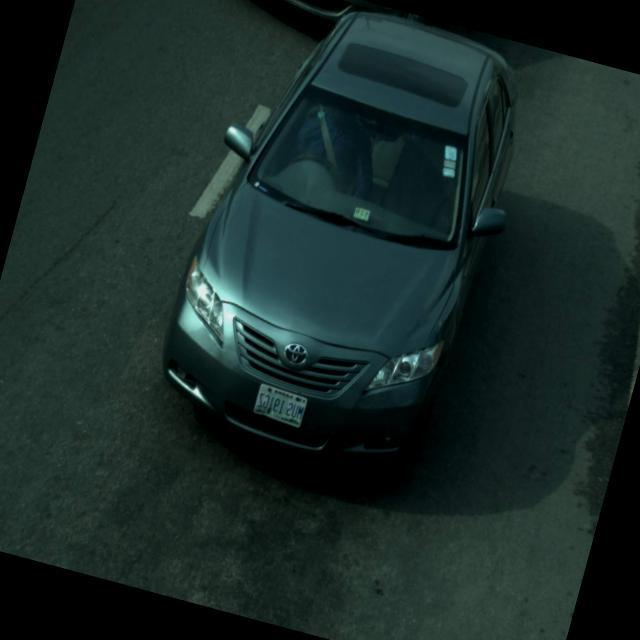windshield: (240, 70, 488, 265)
